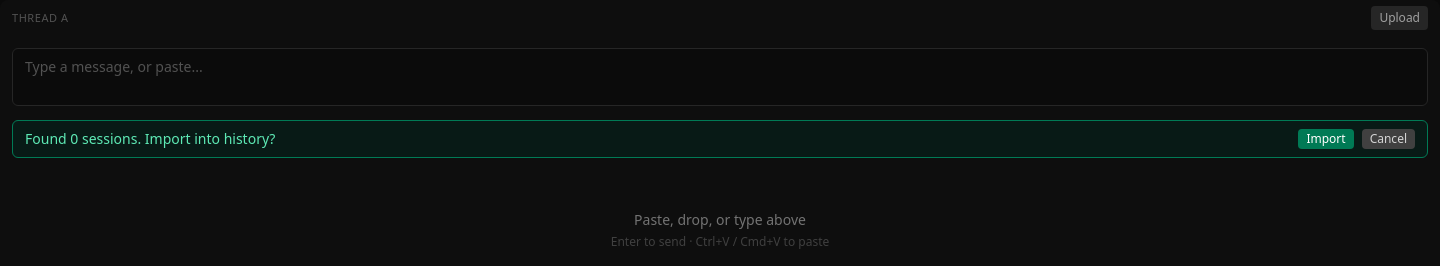
PasteZone › shows result summary after import completes
The image size is (1440, 266).
What coordinates should you click on to do the following:
click the button "Import"
I would click on:
 (1326, 139)
Its box is [1298, 129, 1354, 149].
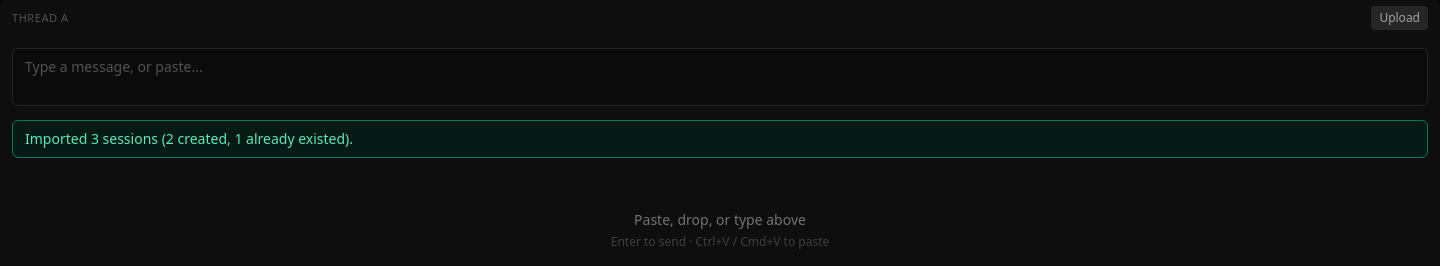
Result: the text "Imported 3 sessions (2 created, 1 already existed)." is shown at [12, 120, 1428, 158]
